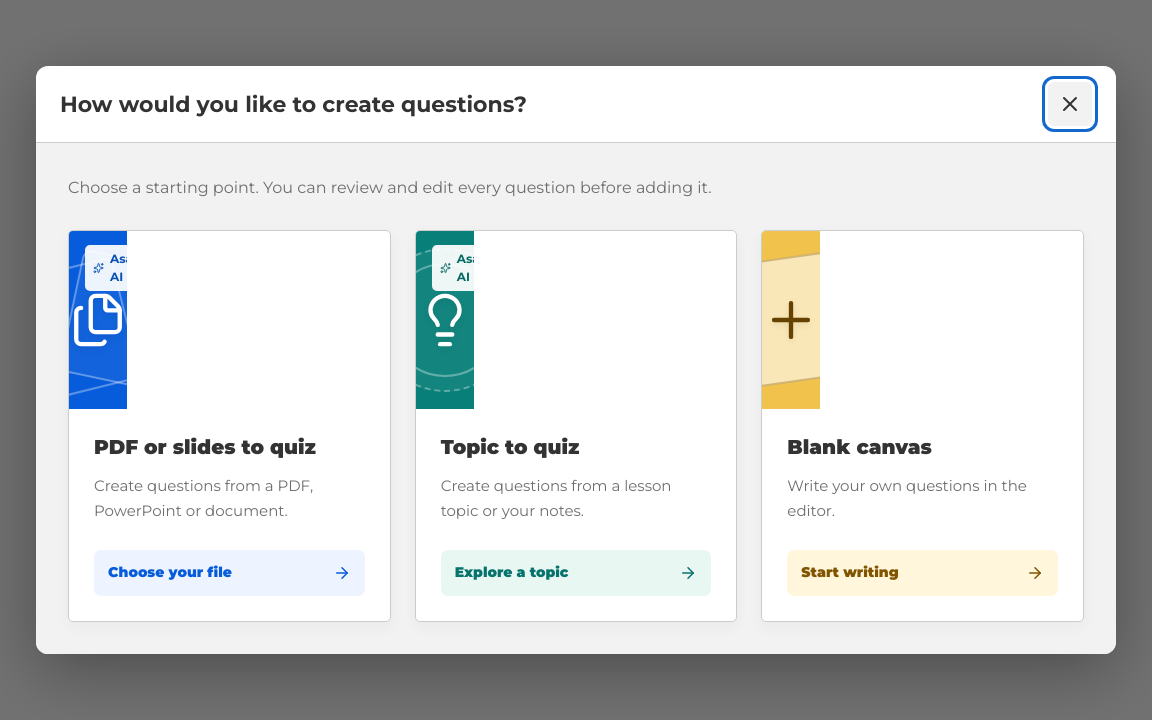
starts with method choices and keeps topic draft when navigating back
Expected: the button "Blank canvas" is shown, left=761, top=230, right=1084, bottom=622
Click the button "Topic to quiz" at [445, 320], box left=415, top=230, right=737, bottom=622
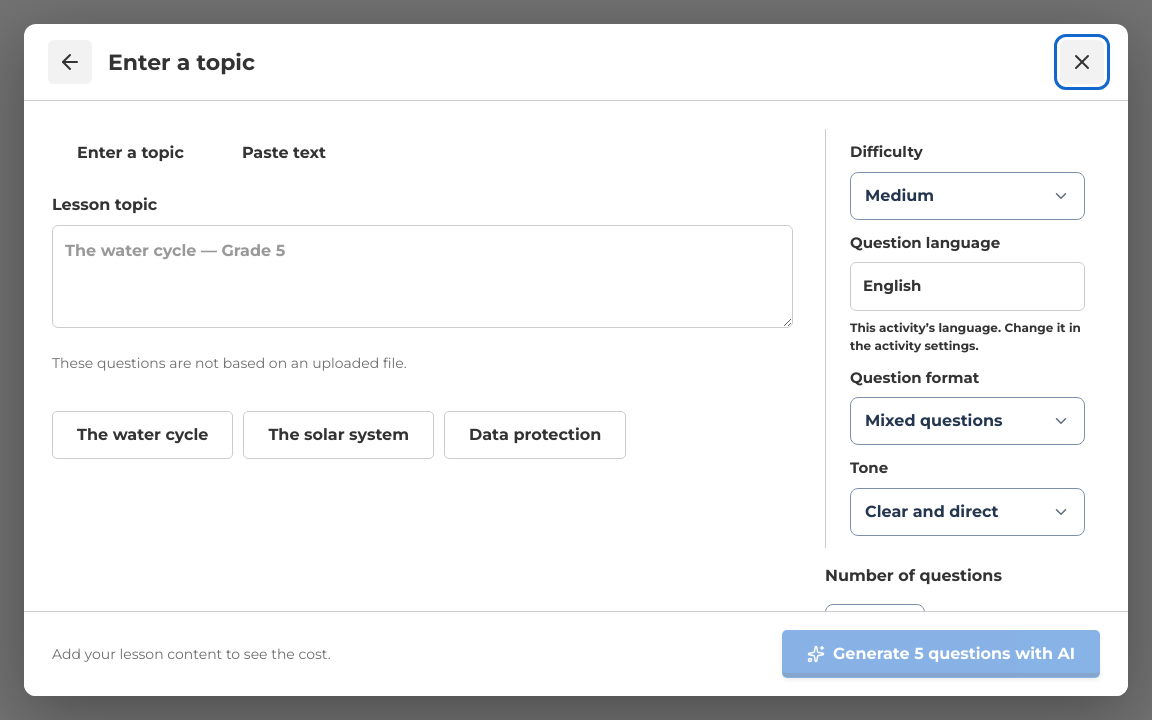
Type "The water cycle" into the text box labelled "Lesson topic" at [422, 276], box left=52, top=225, right=793, bottom=328
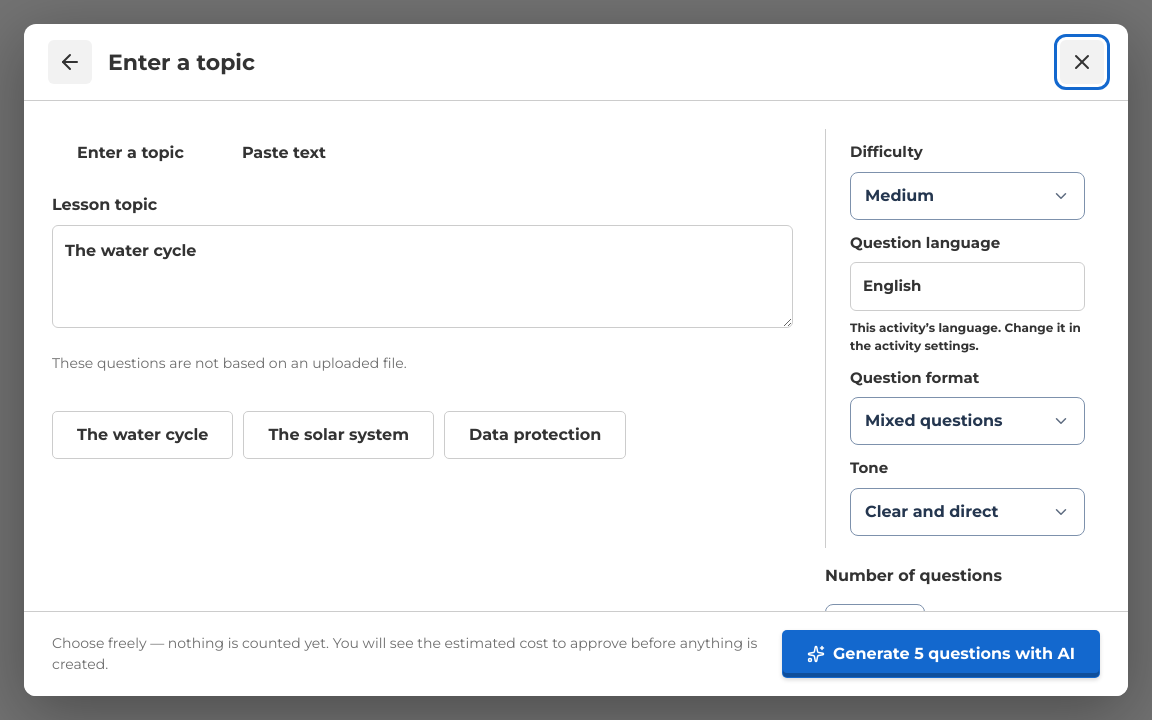
Click the button named "Change creation method" at [70, 62], box left=48, top=40, right=92, bottom=84
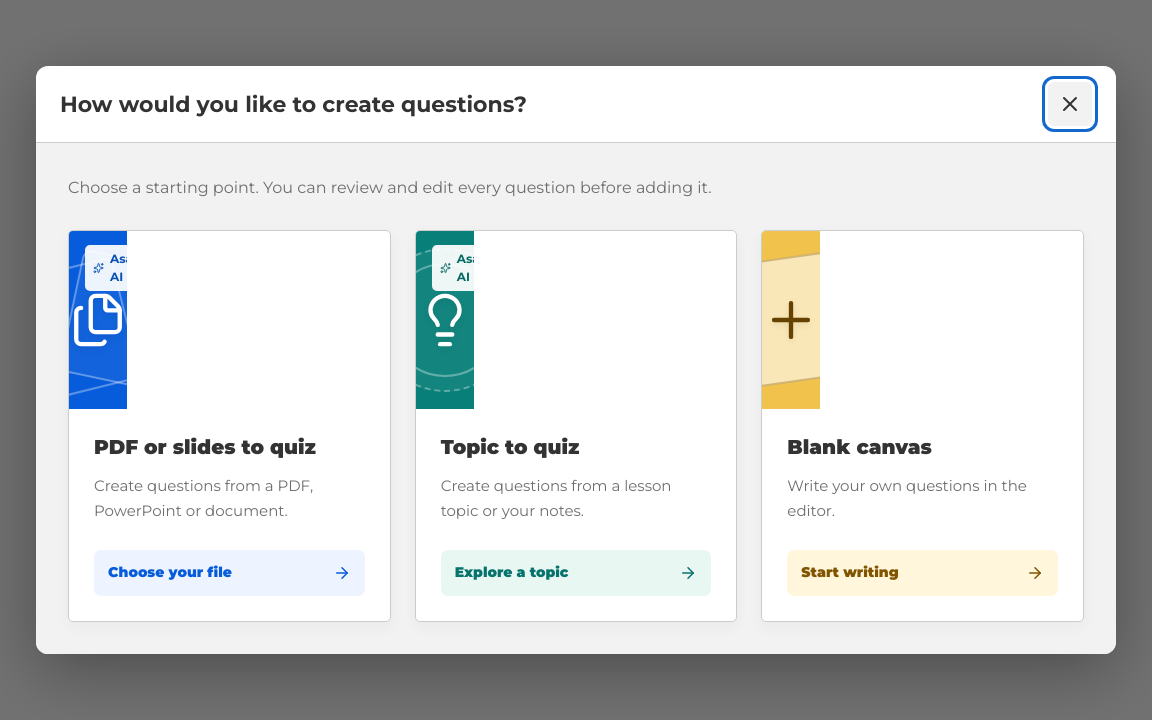
Click the button "Topic to quiz" at [445, 320], box left=415, top=230, right=737, bottom=622
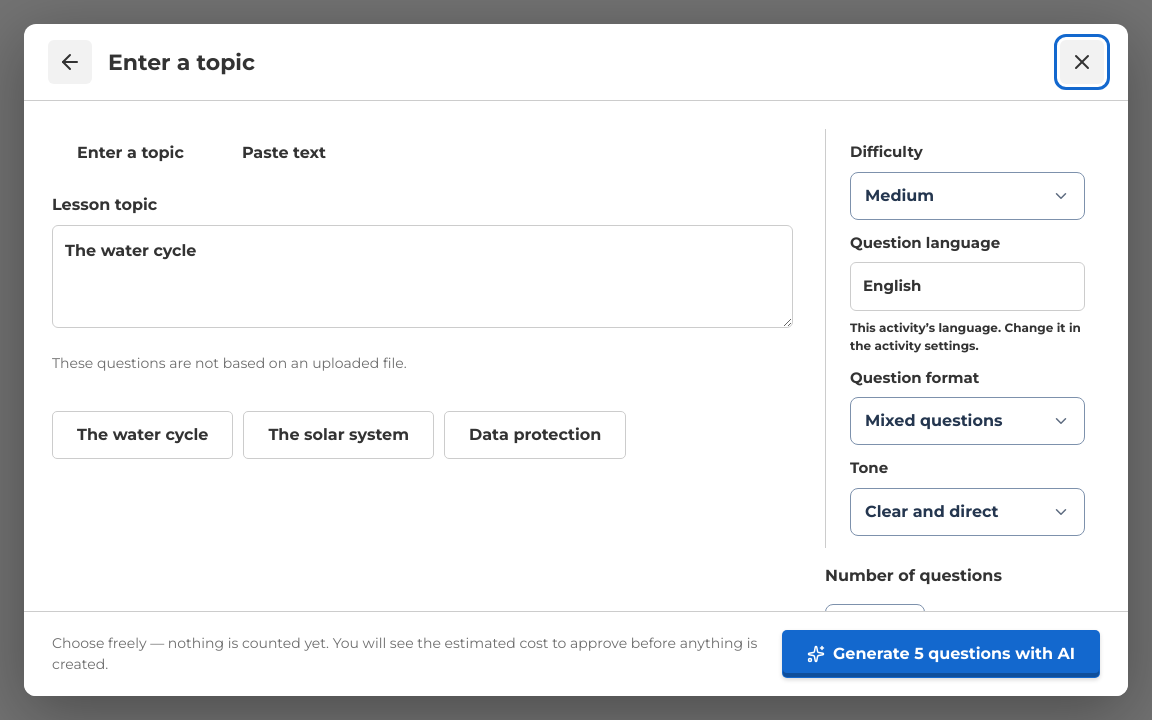
Now the text box labelled "Lesson topic" holds "The water cycle", box left=52, top=225, right=793, bottom=328
